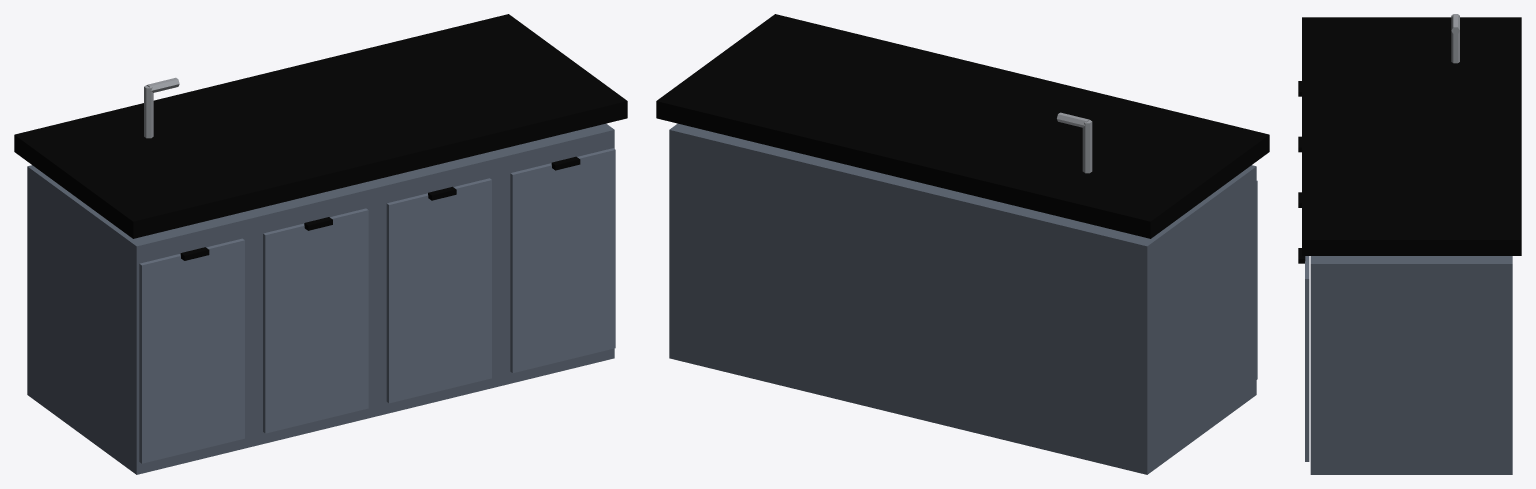
The model's file is labbench.glb.
3 renders of one model, left to right at view 1: azimuth 30°, elevation 25°; view 2: azimuth 150°, elevation 25°; view 3: azimuth 270°, elevation 25°, orthographic. The views are drawn at different scales.
Parts seen in each view (by area): view 1: labbench; view 2: labbench; view 3: labbench.
Part boxes in pixels (x1=…): labbench: x1=14, y1=14, x2=627, y2=474; labbench: x1=656, y1=14, x2=1269, y2=474; labbench: x1=1298, y1=14, x2=1521, y2=474.
Bounding box in the file's own units: 1.83 × 1.1 × 0.7742.
